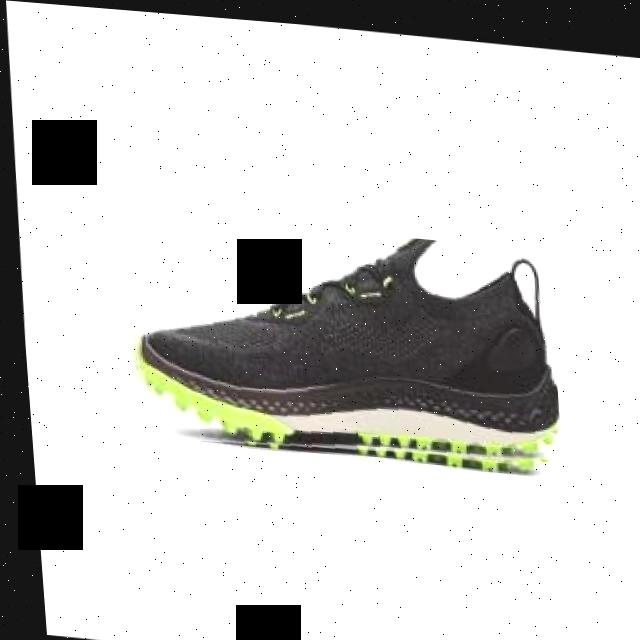shoe: (118, 207, 559, 470)
